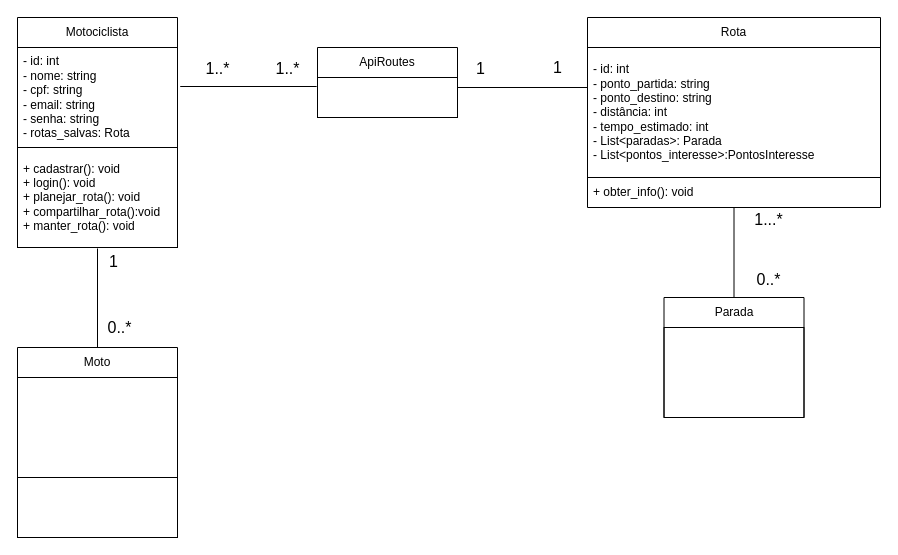
Image size: 898x555. Some labels were removed from this diagram. Each missing label, with the centre of its shape:
"+ cadastrar(): void + editar(): void" belongs at (97,507).
"+ calcular_rota():void" belongs at (387,97).
"- id: int - modelo: String - marca: String" belongs at (97,427).
"- id: int - nome: string - endereço: string" belongs at (733,372).
